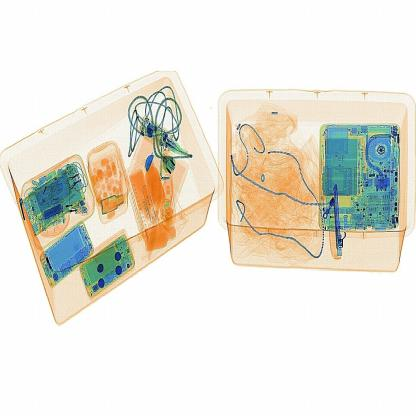pliers: (327, 181, 347, 264)
